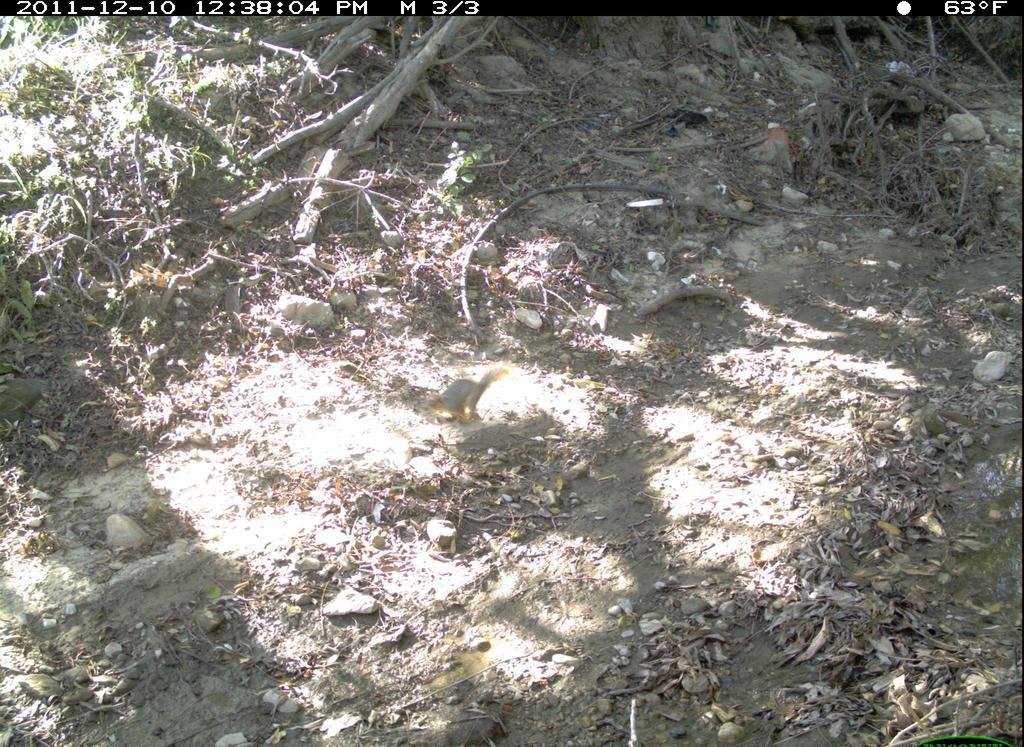squirrel: (411, 358, 514, 436)
